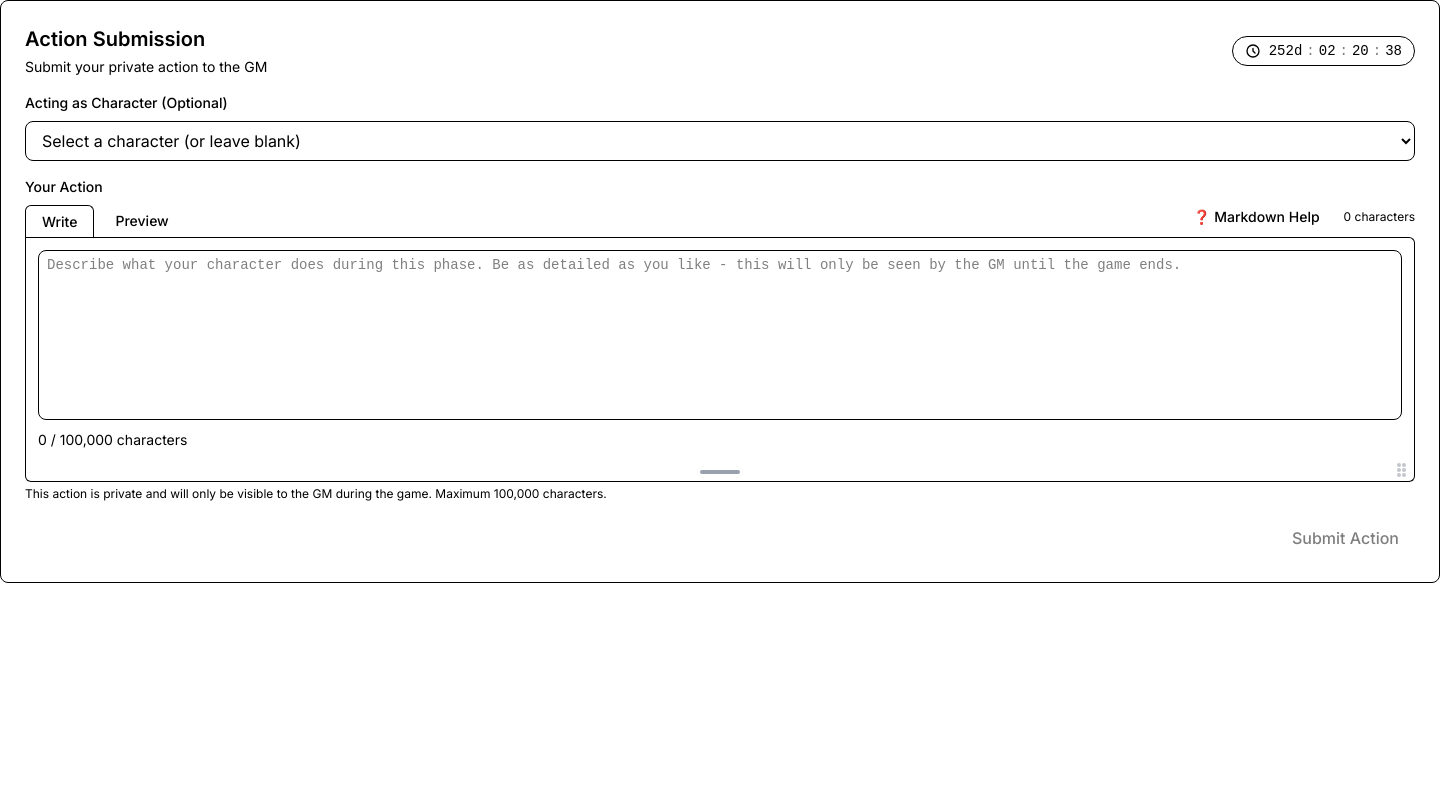
it: ActionSubmission › Action Submission › disables form fields while submitting
In the text box: (720, 335) [38, 250, 1402, 420], type "Test action"
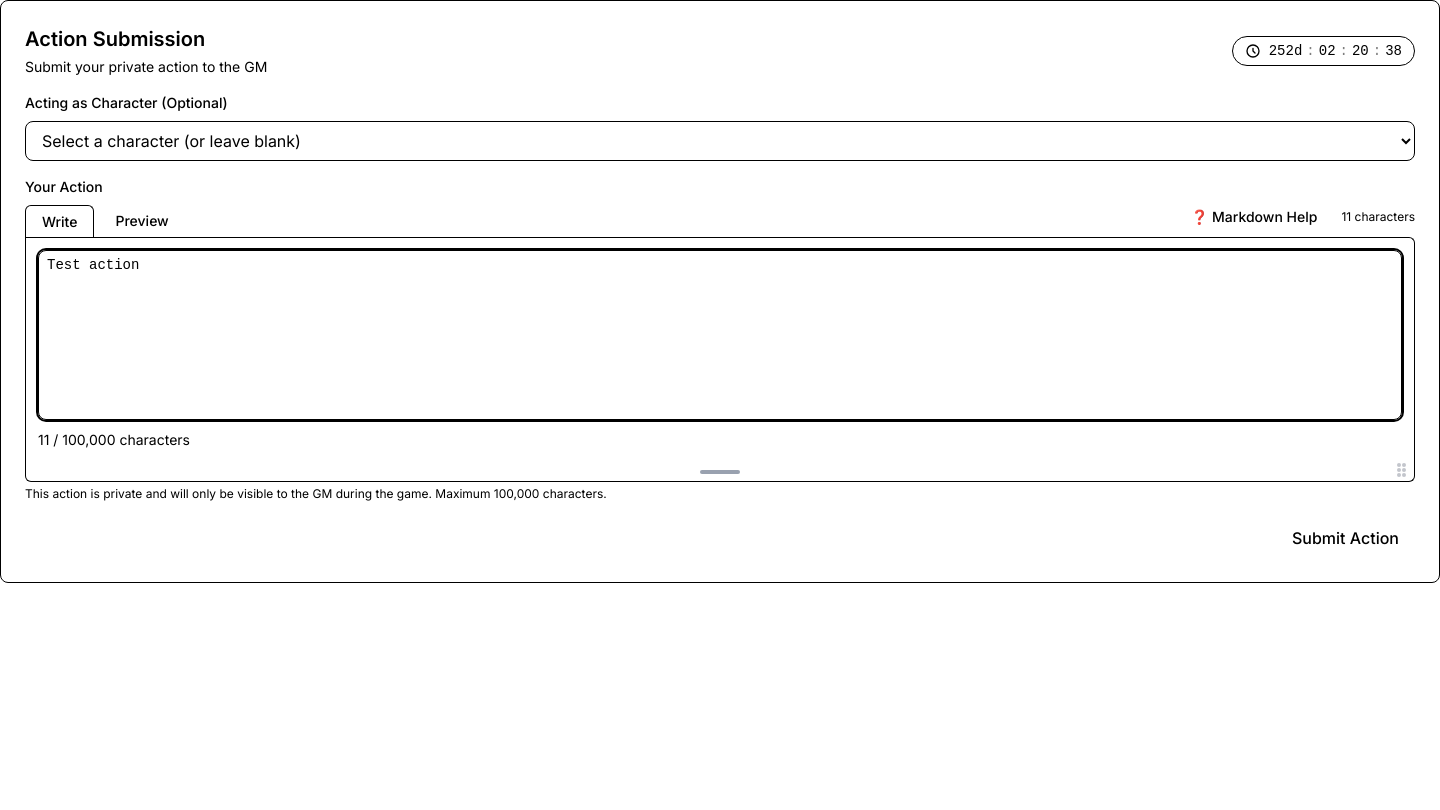
Click the button "Submit Action": (1346, 538) [1276, 518, 1415, 558]
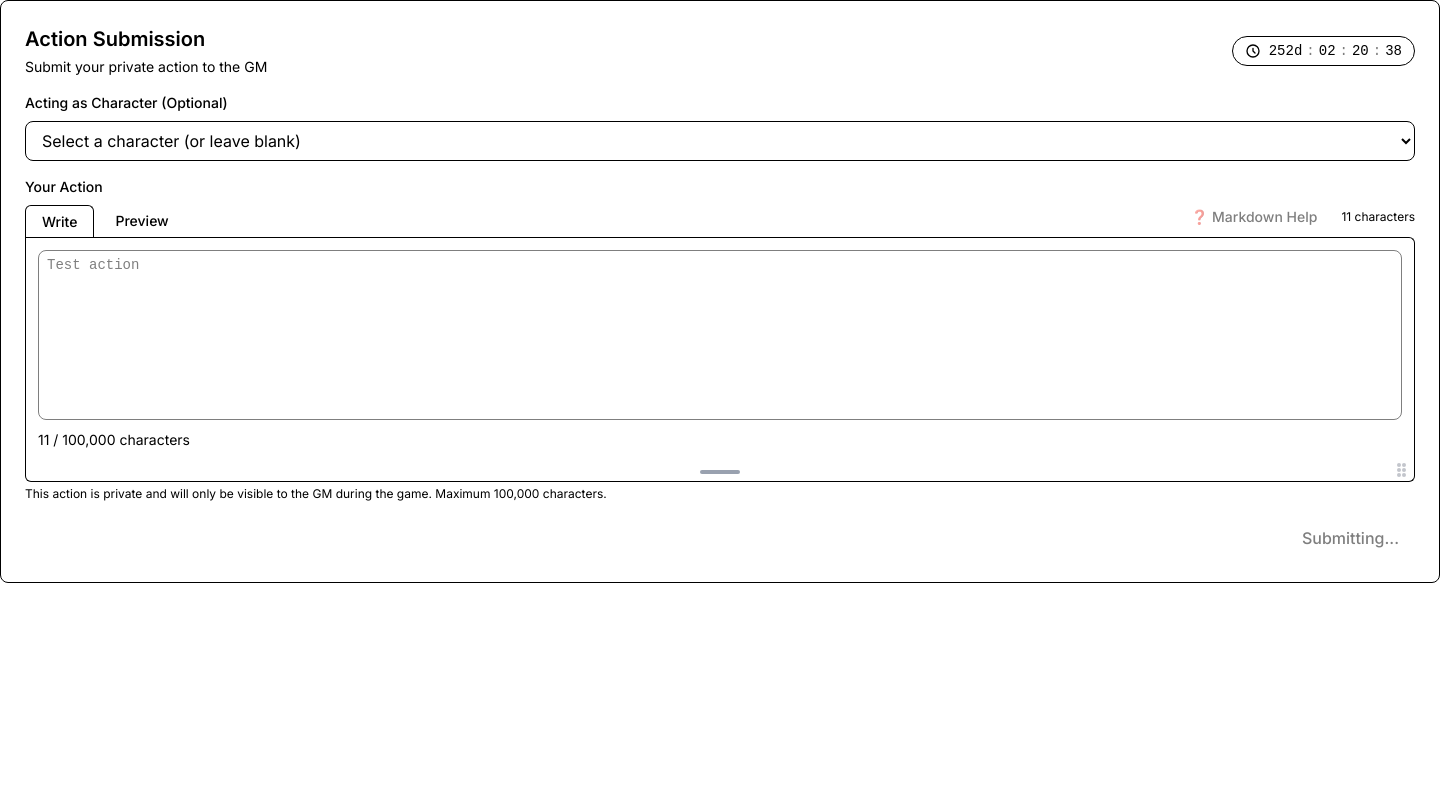
Expected: the text box is disabled, [38, 250, 1402, 420]
